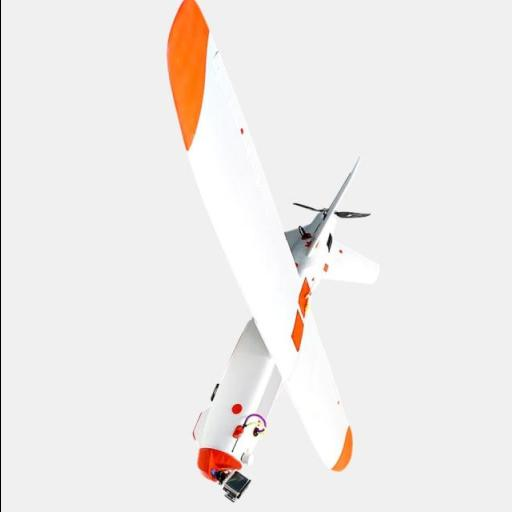uav: (150, 0, 382, 502)
